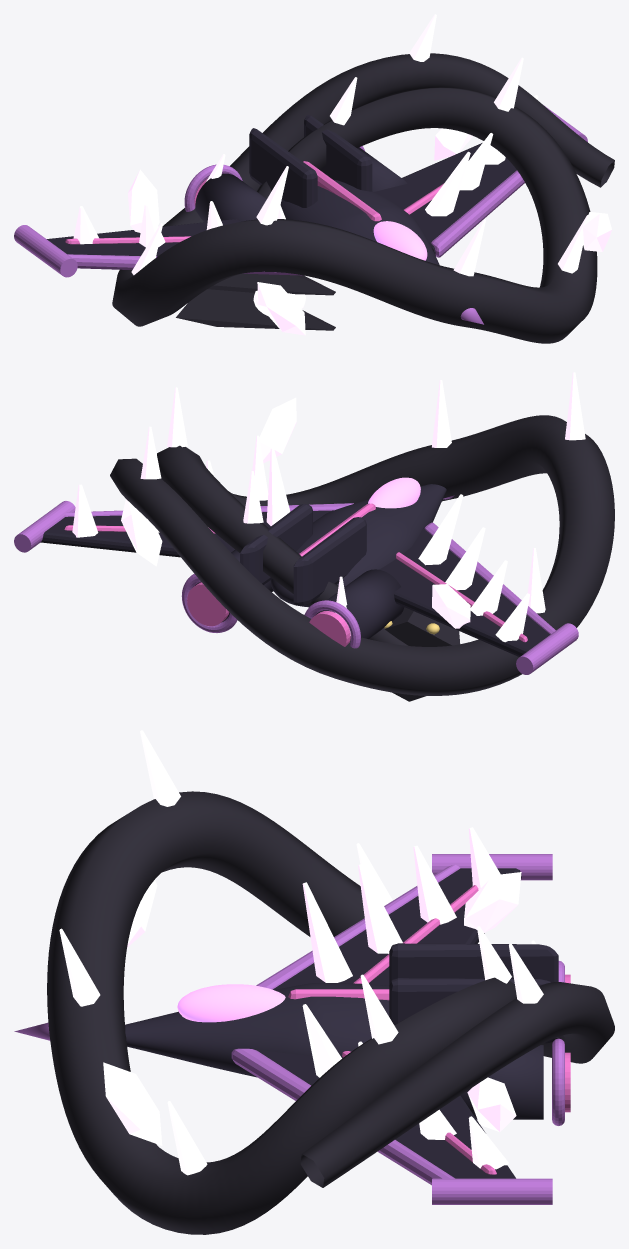
The model's file is SM_Keeper_UmbraCoiled.fbx.
The picture shows the model from 3 angles, top to bottom: view 1: azimuth 30°, elevation 25°; view 2: azimuth 150°, elevation 25°; view 3: azimuth 270°, elevation 25°; orthographic projection. The views are drawn at different scales.
Parts seen in each view (by area): view 1: SM_Keeper_UmbraCoiled; view 2: SM_Keeper_UmbraCoiled; view 3: SM_Keeper_UmbraCoiled.
Part boxes in pixels (x1,y1,x2,y2): SM_Keeper_UmbraCoiled: [14, 14, 614, 343]; SM_Keeper_UmbraCoiled: [14, 372, 614, 701]; SM_Keeper_UmbraCoiled: [14, 730, 614, 1234].
Size of the model in its own units: 6.88 by 3.23 by 5.2.
